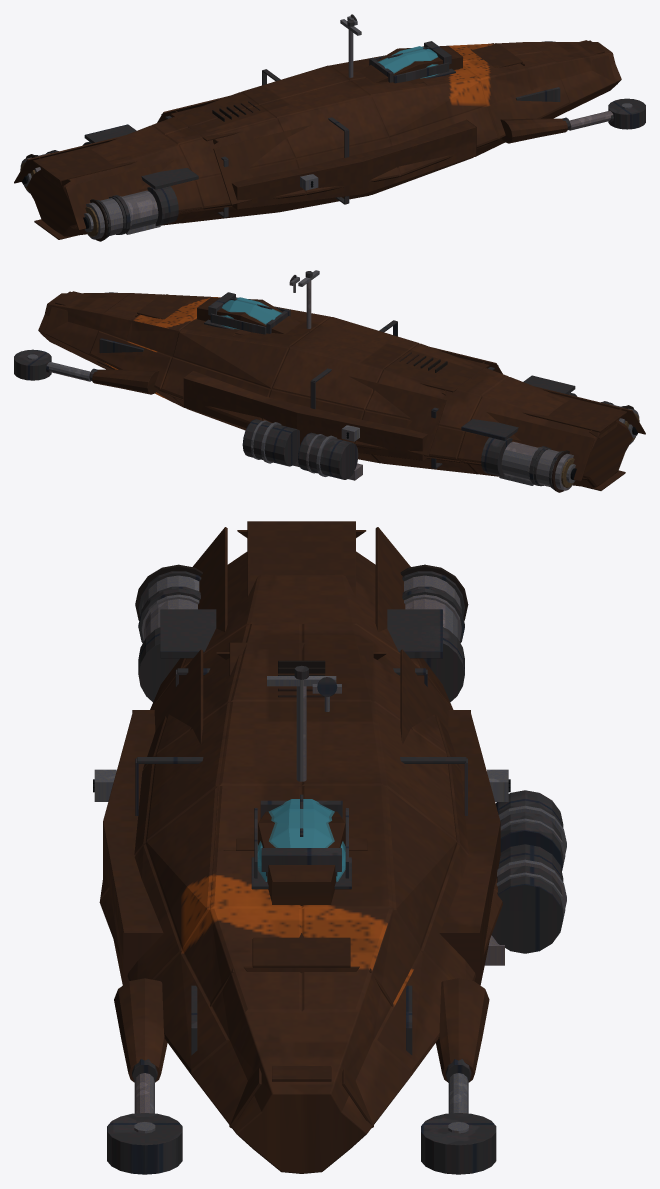
File: pelican_production_v1_lod2.glb
3 views of the same model, one above another, from view 1: azimuth 30°, elevation 25°; view 2: azimuth 150°, elevation 25°; view 3: azimuth 270°, elevation 25° (orthographic). The views are drawn at different scales.
Parts seen in each view (by area): view 1: LOD2_Hull, LOD2_Armor, LOD2_Mechanical, LOD2_Canopy, LOD2_Radiator; view 2: LOD2_Hull, LOD2_Armor, LOD2_Mechanical, LOD2_Canopy, LOD2_Radiator; view 3: LOD2_Hull, LOD2_Armor, LOD2_Mechanical, LOD2_Canopy, LOD2_Radiator.
Boxes of the visible parts, <box> form: LOD2_Hull: <box>14,40,621,239</box>; LOD2_Armor: <box>35,14,645,238</box>; LOD2_Mechanical: <box>20,16,632,239</box>; LOD2_Canopy: <box>377,46,438,78</box>; LOD2_Radiator: <box>25,101,260,241</box>; LOD2_Hull: <box>38,291,645,490</box>; LOD2_Armor: <box>14,271,624,489</box>; LOD2_Mechanical: <box>27,270,639,490</box>; LOD2_Canopy: <box>221,297,282,329</box>; LOD2_Radiator: <box>399,352,634,492</box>; LOD2_Hull: <box>99,521,502,1173</box>; LOD2_Armor: <box>107,571,563,1174</box>; LOD2_Mechanical: <box>94,575,566,1133</box>; LOD2_Canopy: <box>257,799,345,881</box>; LOD2_Radiator: <box>135,564,468,697</box>.
Size of what is drawn, in the model's own units: 14.16 by 3.94 by 5.2.
Materials: 8 (8 with a texture image).
